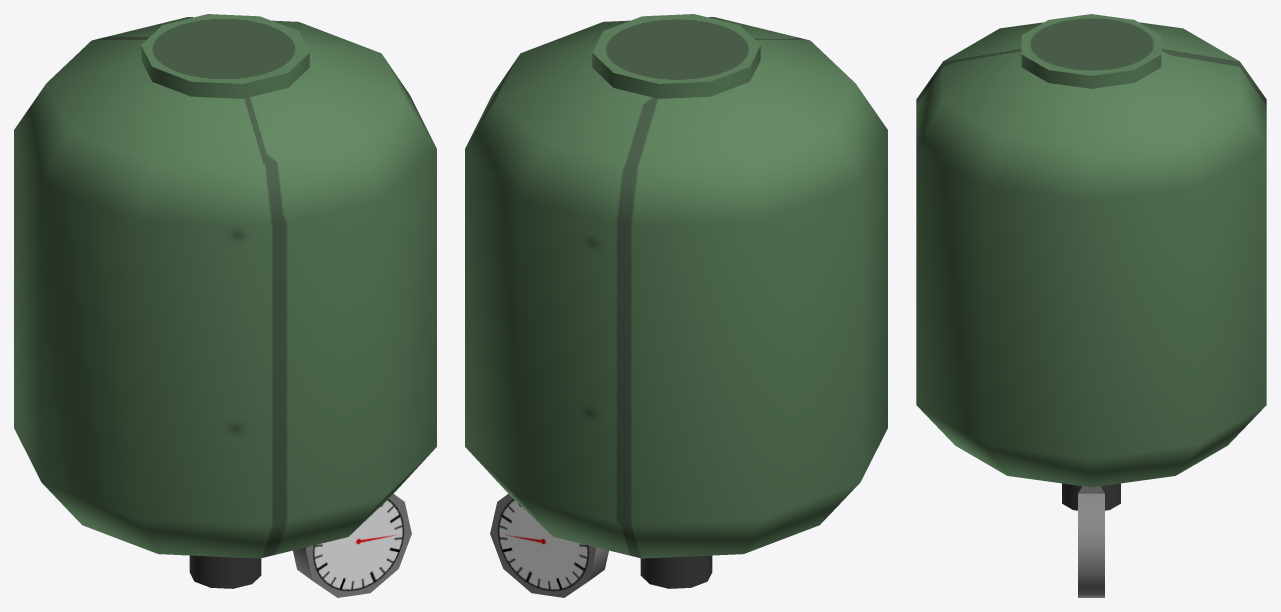
The model's file is flameThrower_clip.fbx.
The picture shows the model from 3 angles, left to right: view 1: azimuth 30°, elevation 25°; view 2: azimuth 150°, elevation 25°; view 3: azimuth 270°, elevation 25°; orthographic projection. The views are drawn at different scales.
Parts seen in each view (by area): view 1: tank, guage; view 2: tank, guage; view 3: tank, guage.
Boxes of the visible parts, x1,y1,x2,y2 form: tank: [14, 14, 436, 588]; guage: [293, 494, 411, 597]; tank: [465, 14, 887, 588]; guage: [490, 494, 608, 597]; tank: [916, 14, 1266, 510]; guage: [1078, 486, 1104, 597].
Size of the model in its own units: 0.7506 by 1.11 by 0.7139.
1 material, 1 textured.
